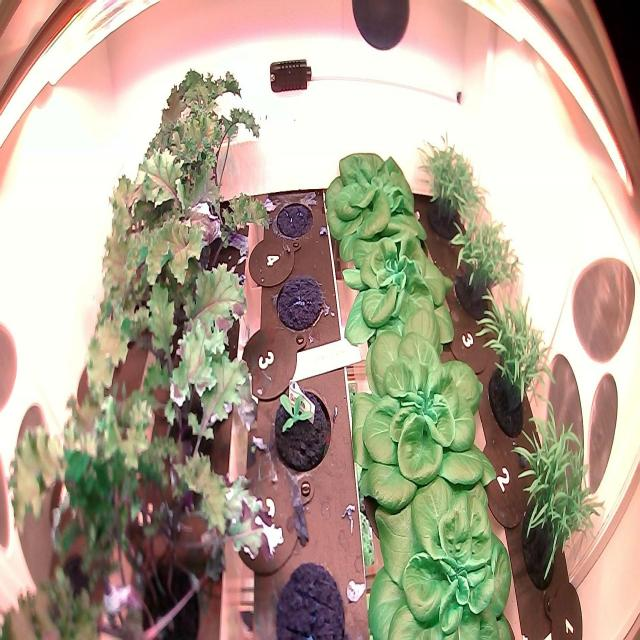pod: (267, 558, 352, 640), (268, 263, 330, 344), (271, 188, 318, 247)
young: (344, 318, 502, 514), (359, 459, 523, 640), (335, 215, 461, 367), (318, 132, 432, 266), (264, 372, 333, 477)
